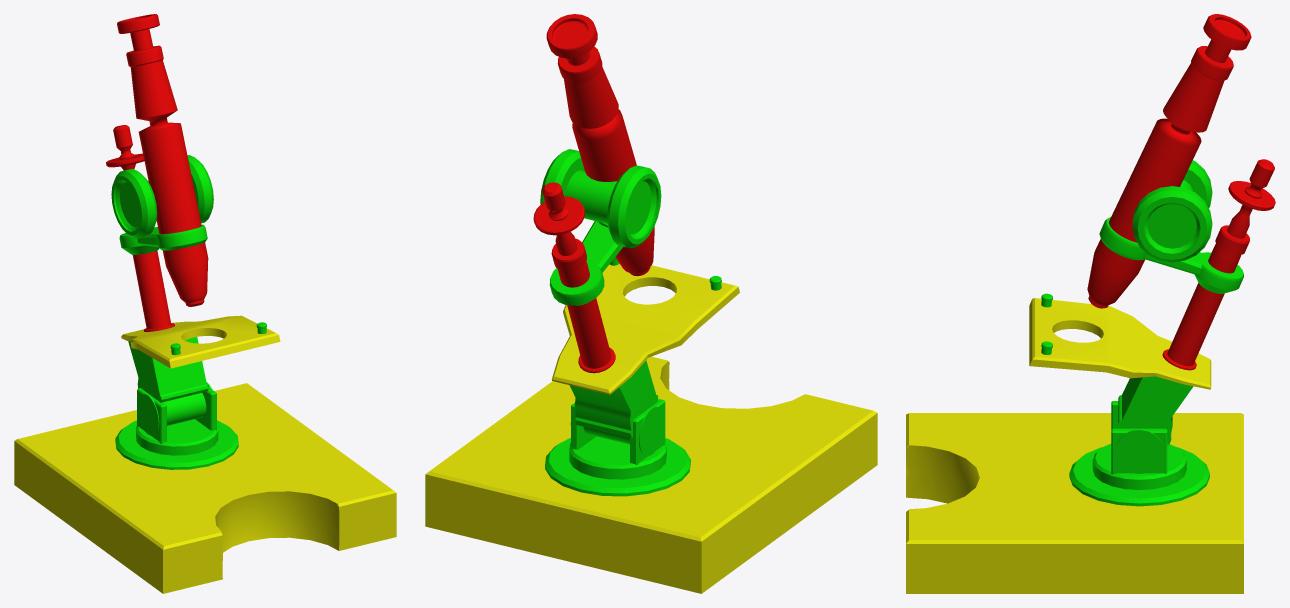
Rendered from Microscope.fbx.
The picture shows the model from 3 angles, left to right: view 1: azimuth 30°, elevation 25°; view 2: azimuth 150°, elevation 25°; view 3: azimuth 270°, elevation 25°; orthographic projection. The views are drawn at different scales.
Parts seen in each view (by area): view 1: Base5, Fer_rouillé2, Microscope5; view 2: Base5, Fer_rouillé2, Microscope5; view 3: Base5, Fer_rouillé2, Microscope5.
Boxes of the visible parts, box(x1,y1,x2,y2) form: Base5: box(14, 315, 396, 593); Fer_rouillé2: box(111, 155, 266, 469); Microscope5: box(106, 14, 208, 331); Base5: box(425, 263, 877, 593); Fer_rouillé2: box(540, 149, 721, 496); Microscope5: box(533, 14, 654, 373); Base5: box(906, 298, 1243, 593); Fer_rouillé2: box(1041, 160, 1243, 506); Microscope5: box(1087, 14, 1275, 370).
Size of the model in its own units: 2.13 by 3.92 by 2.57.
